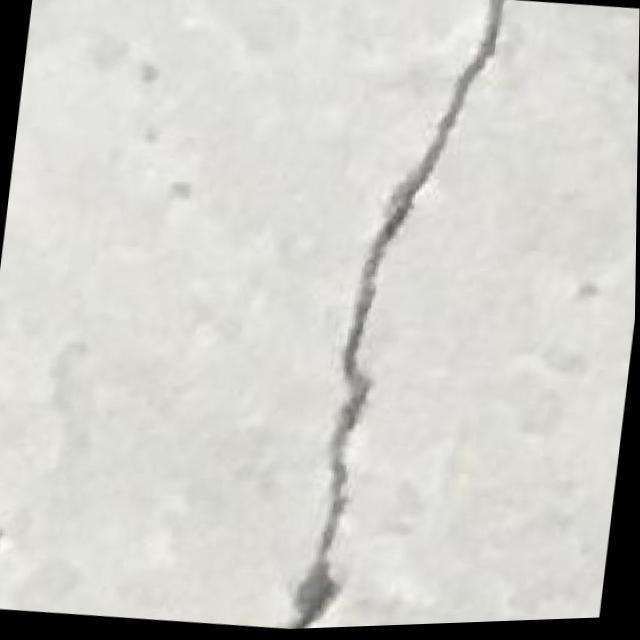Crack: (272, 0, 511, 632)
